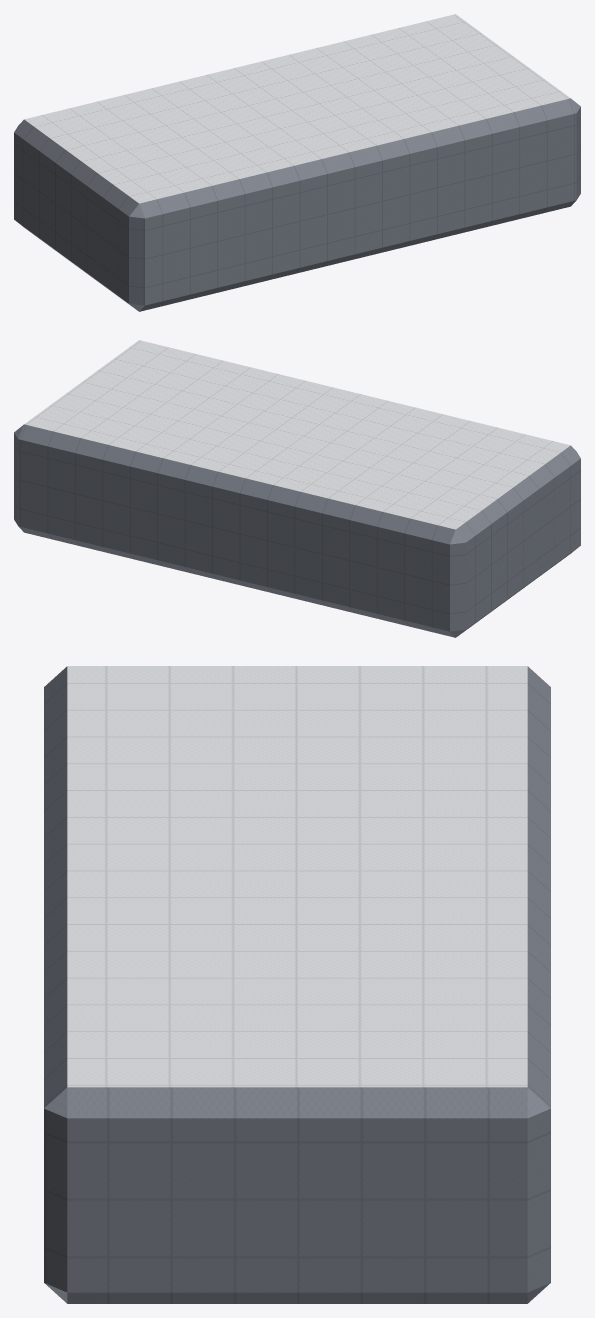
The model's file is R4B_Plate1x2_LOD1.glb.
3 renders of one model, top to bottom at view 1: azimuth 30°, elevation 25°; view 2: azimuth 150°, elevation 25°; view 3: azimuth 270°, elevation 25°, orthographic. The views are drawn at different scales.
Visible parts, largest first — view 1: R4B_Plate1x2_LOD1; view 2: R4B_Plate1x2_LOD1; view 3: R4B_Plate1x2_LOD1.
Boxes of the visible parts, box(x1,y1,x2,y2) form: R4B_Plate1x2_LOD1: box(14, 14, 580, 311); R4B_Plate1x2_LOD1: box(14, 340, 580, 637); R4B_Plate1x2_LOD1: box(44, 666, 550, 1303).
Size of the model in its own units: 1.07 by 0.245 by 0.52.
2 materials, 2 textured.
